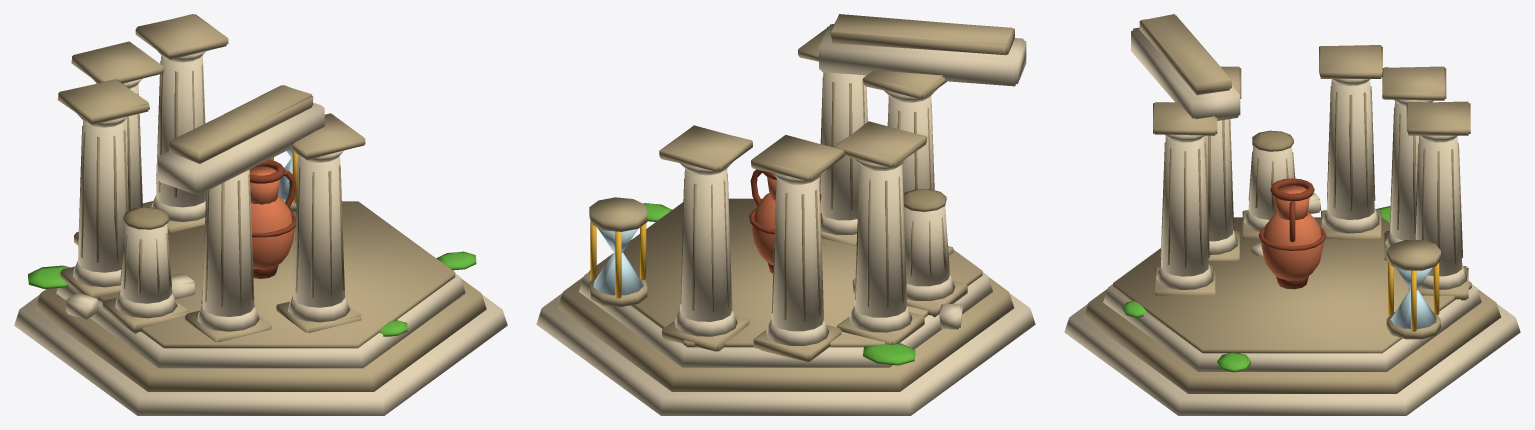
File: historia.glb
The picture shows the model from 3 angles, left to right: view 1: azimuth 30°, elevation 25°; view 2: azimuth 150°, elevation 25°; view 3: azimuth 270°, elevation 25°; orthographic projection. The views are drawn at different scales.
Visible parts, largest first — view 1: Historia; view 2: Historia; view 3: Historia.
Part boxes in pixels (x1,y1,x2,y2): Historia: [14, 14, 507, 415]; Historia: [536, 14, 1035, 415]; Historia: [1064, 14, 1520, 415].
Size of the model in its own units: 4.07 by 2.83 by 4.7.
